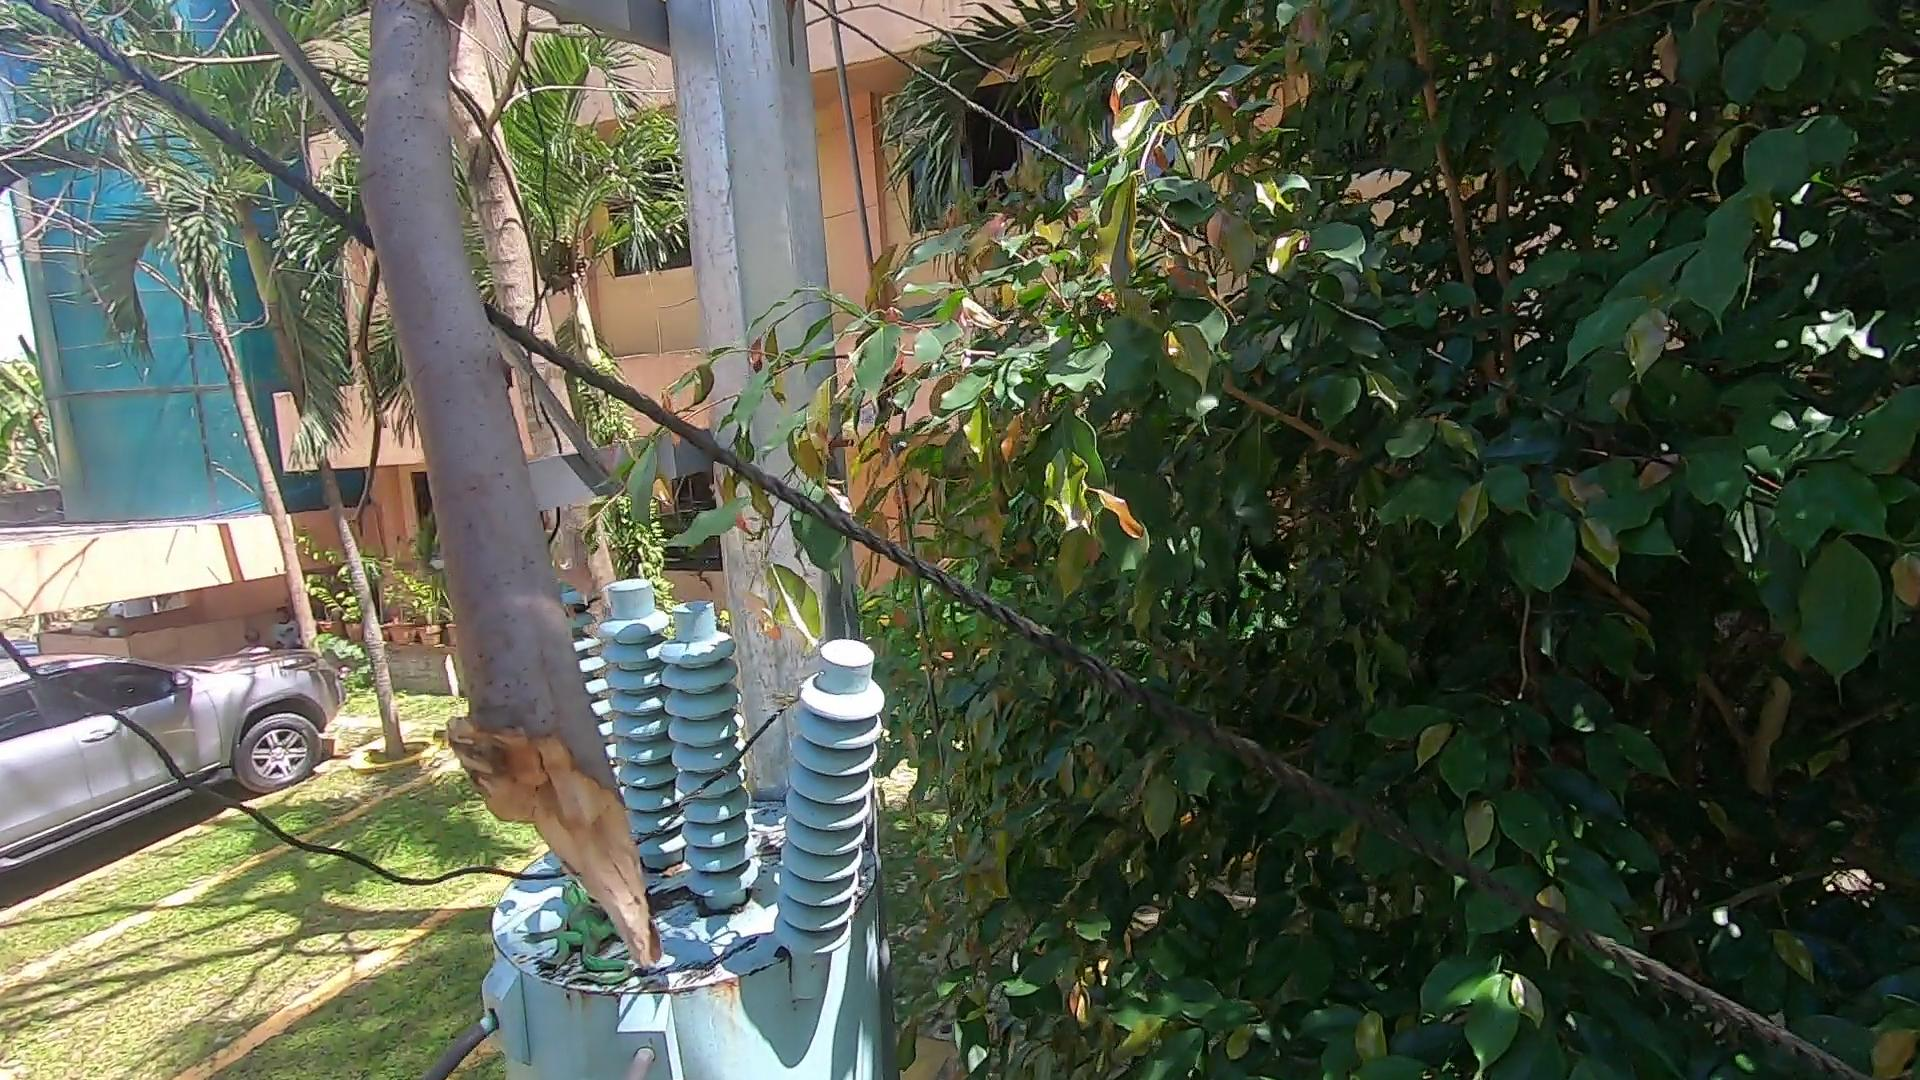branch with leaves: (578, 349, 905, 661)
leaf: (644, 876, 704, 918)
tree branch: (218, 5, 752, 942)
